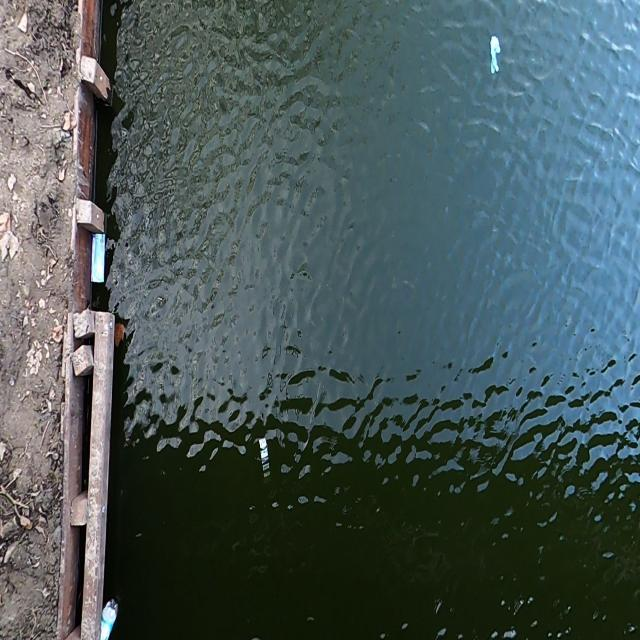Sac plastique: (487, 32, 502, 77)
